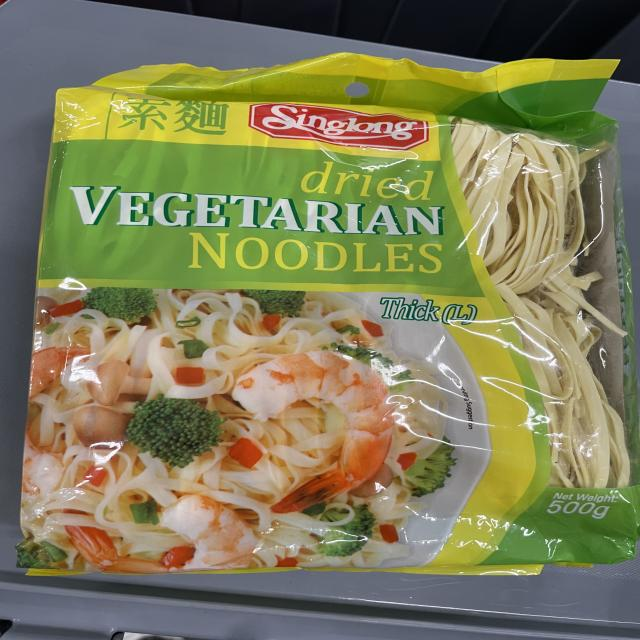object_name: (49, 83, 620, 546)
